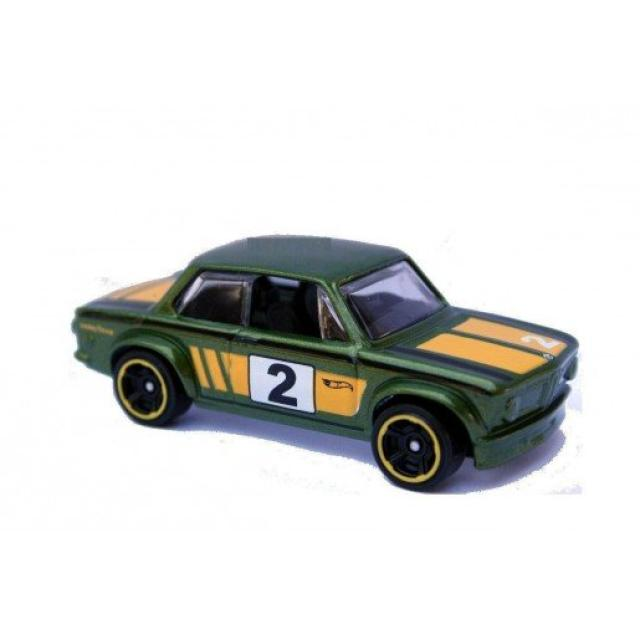Car: (71, 233, 579, 492)
